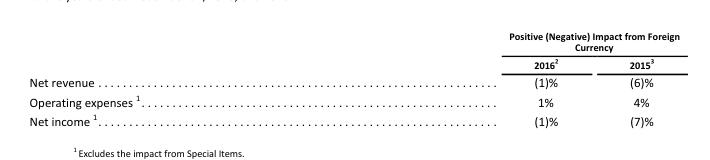table: (28, 29, 679, 128)
table column: (28, 29, 326, 128), (326, 29, 593, 128), (593, 29, 679, 128)
table column header: (28, 29, 679, 72)
table row: (28, 29, 679, 54), (28, 90, 679, 110), (28, 54, 679, 72), (28, 72, 679, 90), (28, 110, 679, 128)
table spanning cell: (326, 29, 679, 54)
